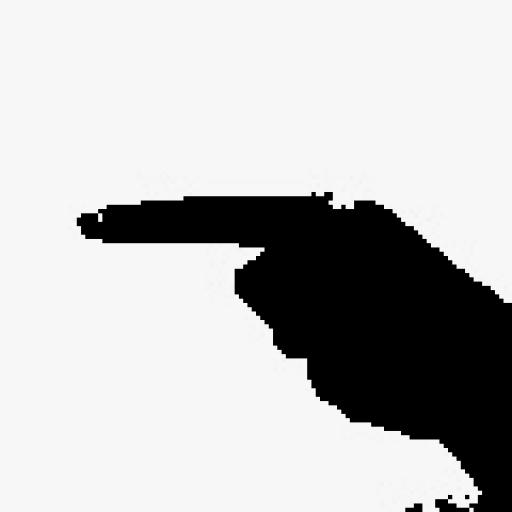index_right: (75, 191, 512, 411)
